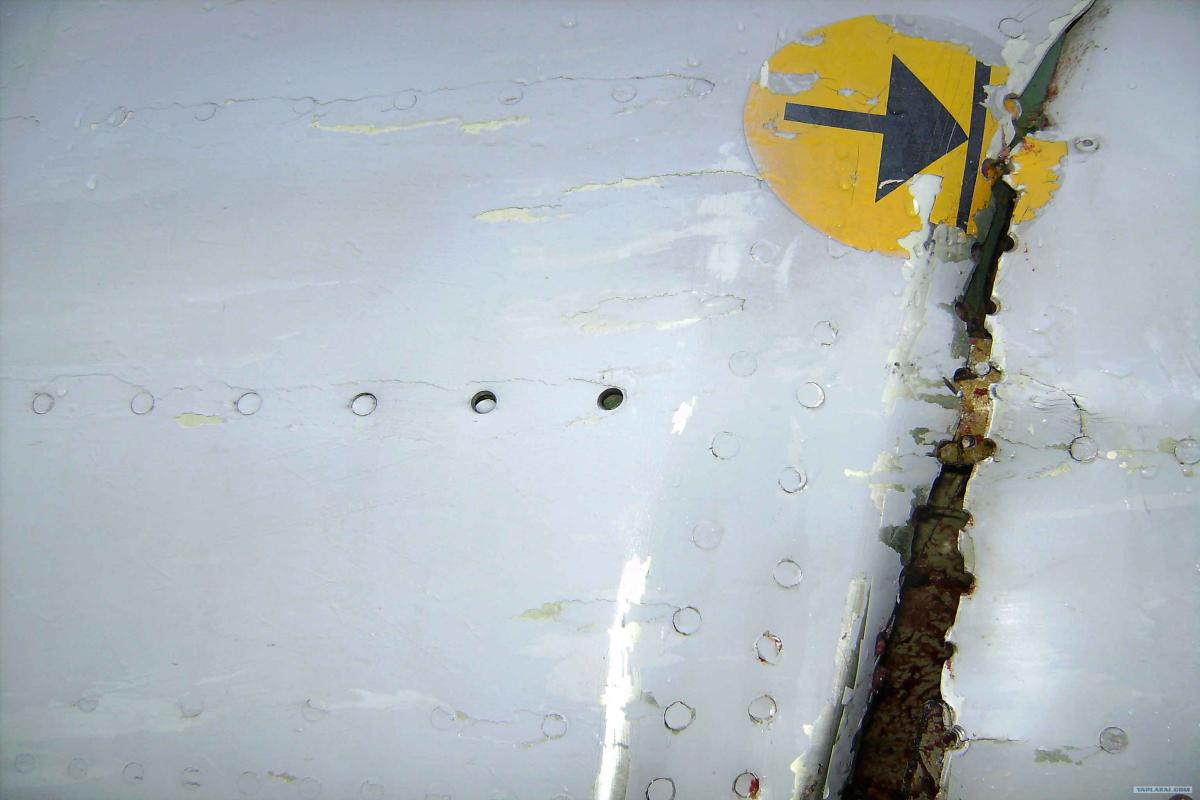Fuselage_damage: (779, 0, 1128, 800)
